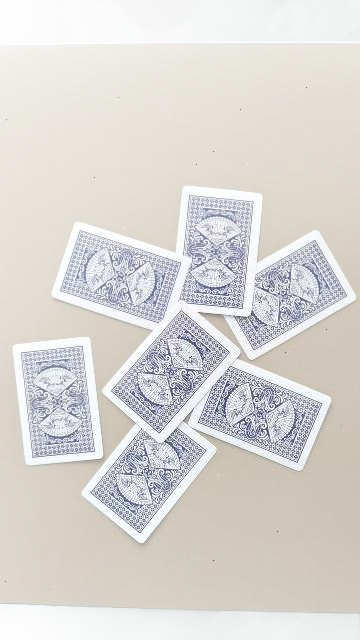card: (104, 301, 240, 442), (225, 230, 356, 359), (82, 422, 216, 542), (189, 359, 331, 471), (51, 222, 191, 330), (12, 338, 104, 465), (176, 186, 262, 316)
